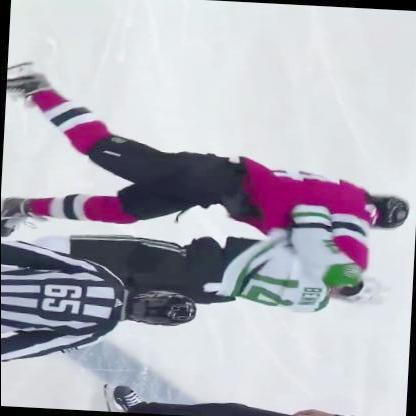voilence: (64, 144, 412, 313)
